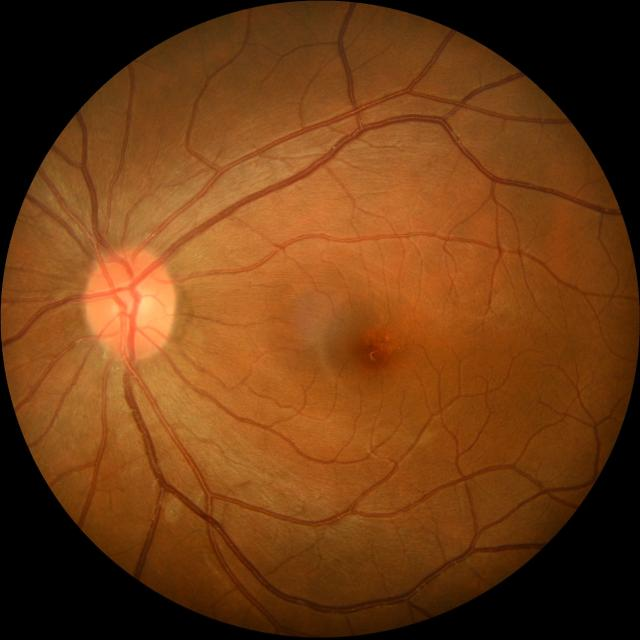OC: (110, 285, 149, 324)
OD: (84, 247, 174, 361)
